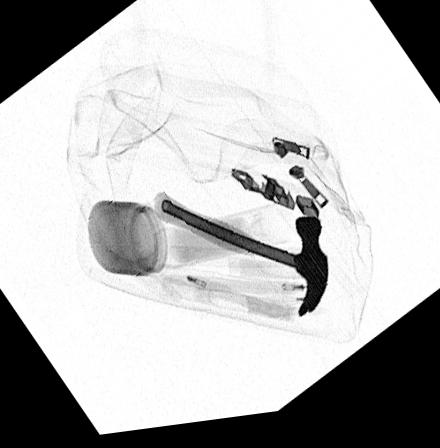Hammer: (152, 194, 329, 324)
